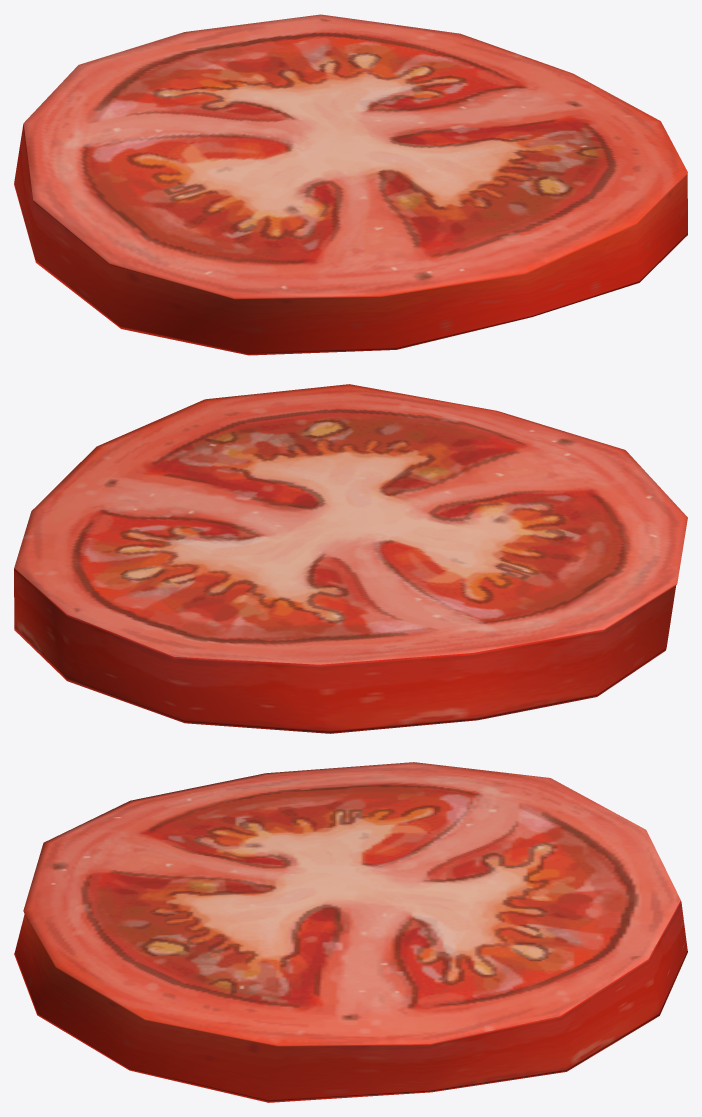
File: tomatoSlice.glb
The picture shows the model from 3 angles, top to bottom: view 1: azimuth 30°, elevation 25°; view 2: azimuth 150°, elevation 25°; view 3: azimuth 270°, elevation 25°; orthographic projection. The views are drawn at different scales.
Parts seen in each view (by area): view 1: Hat_tomato; view 2: Hat_tomato; view 3: Hat_tomato.
Part boxes in pixels (left/top/right/bottom): Hat_tomato: left=14, top=14, right=687, bottom=355; Hat_tomato: left=14, top=384, right=687, bottom=733; Hat_tomato: left=14, top=762, right=687, bottom=1102.
Bounding box in the file's own units: 1.29 × 0.2015 × 1.33.
Materials: 1 (1 with a texture image).
